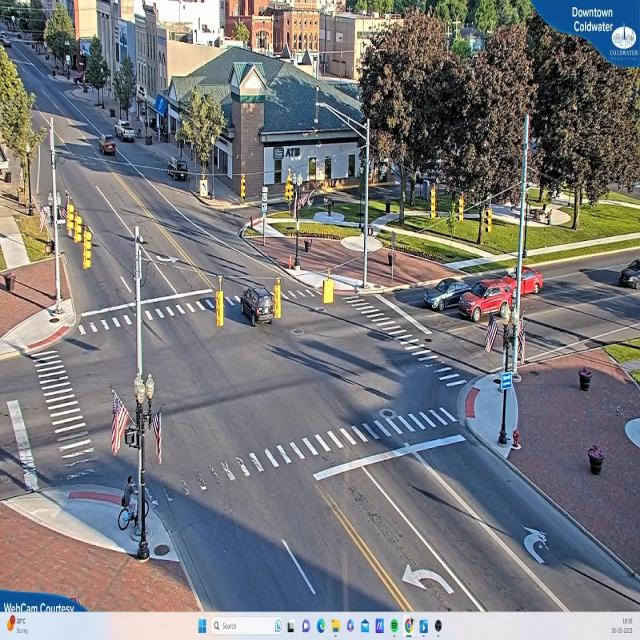car: (461, 278, 511, 326), (420, 277, 464, 314), (240, 284, 272, 326), (506, 263, 544, 297), (619, 259, 639, 292), (165, 157, 189, 180), (118, 121, 136, 142), (100, 136, 116, 155)
